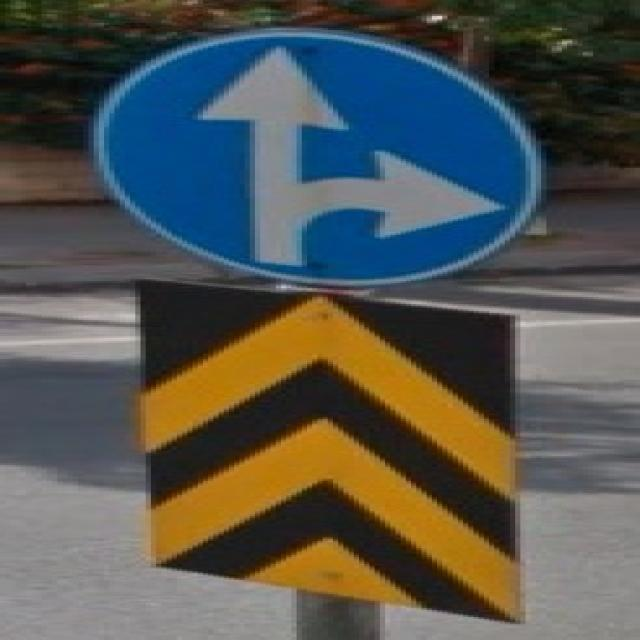Straight or Right: (95, 33, 537, 287)
